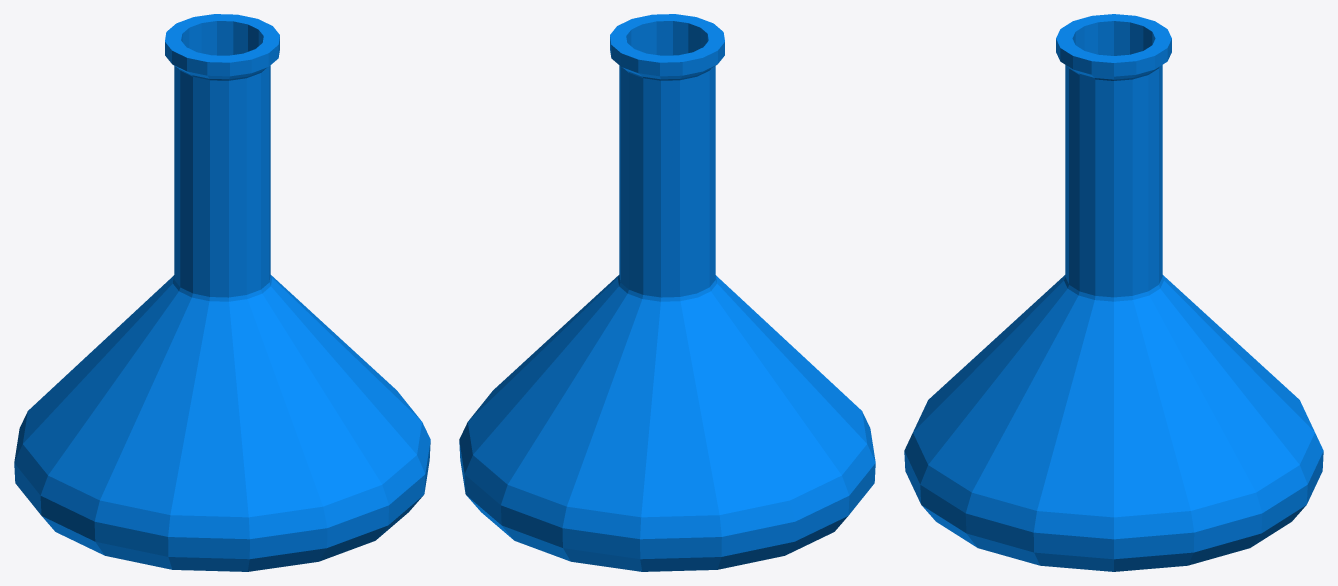
The model's file is fioleBlue.fbx.
3 renders of one model, left to right at view 1: azimuth 30°, elevation 25°; view 2: azimuth 150°, elevation 25°; view 3: azimuth 270°, elevation 25°, orthographic.
Parts seen in each view (by area): view 1: MSH_Fiole3; view 2: MSH_Fiole3; view 3: MSH_Fiole3.
Part boxes in pixels (x1=…): MSH_Fiole3: x1=14, y1=14, x2=430, y2=571; MSH_Fiole3: x1=459, y1=14, x2=875, y2=571; MSH_Fiole3: x1=904, y1=14, x2=1323, y2=571.
Bounding box in the file's own units: 1.68 × 2.06 × 1.68.
